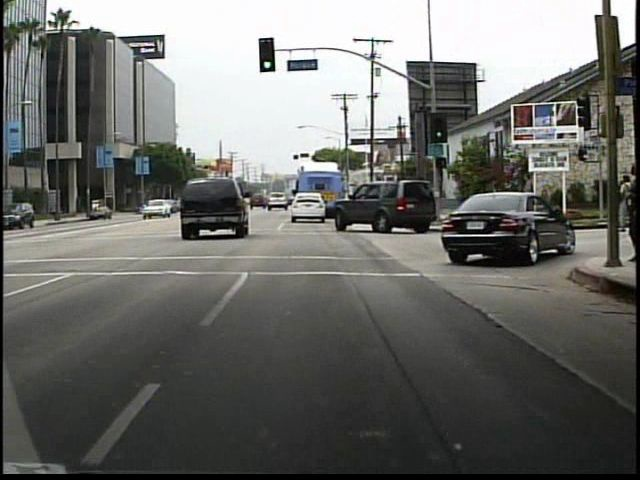person: (477, 176, 509, 237), (620, 163, 637, 263), (613, 172, 634, 235), (516, 172, 538, 225)
